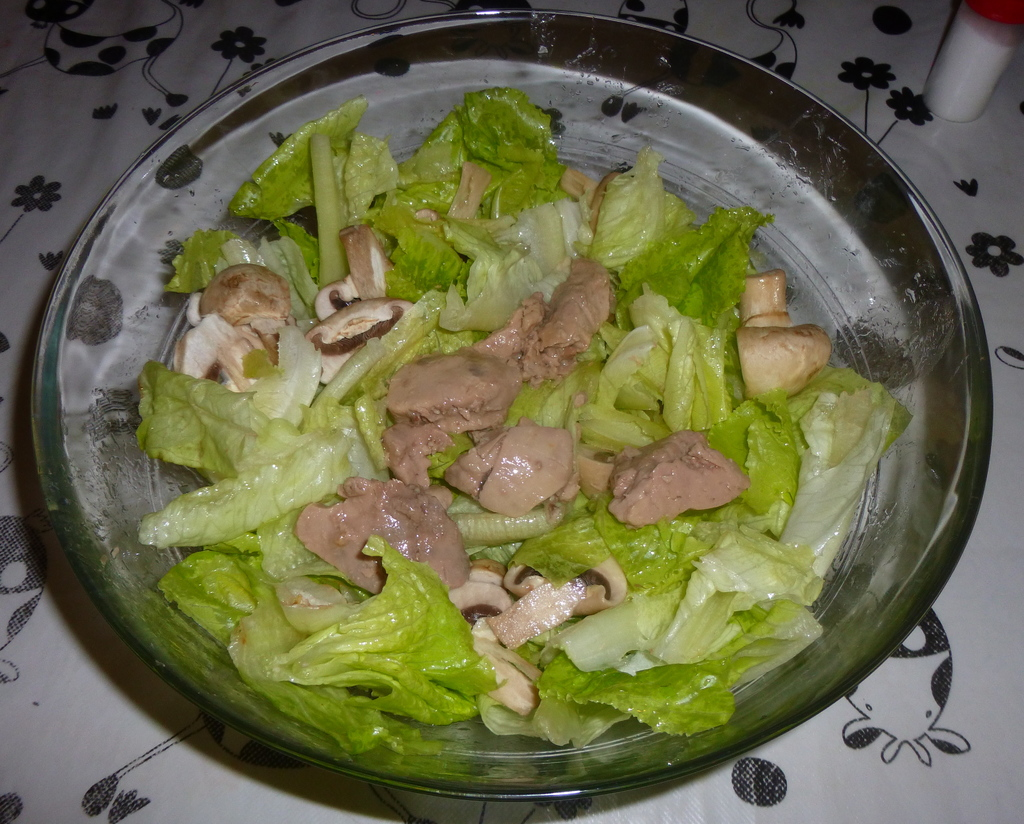salad: (134, 77, 916, 753)
